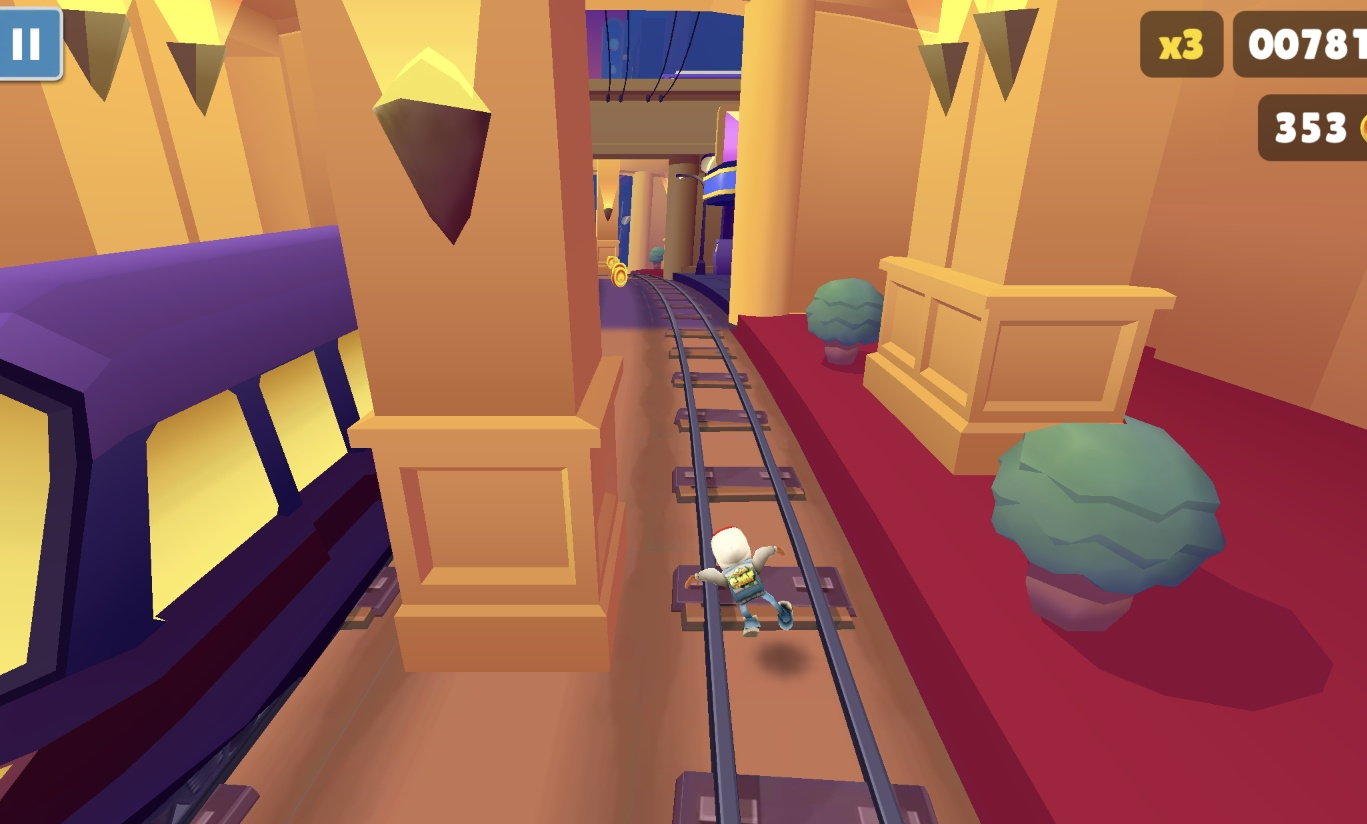pillar: (327, 0, 628, 672), (594, 158, 625, 277)
train: (0, 225, 401, 824)
